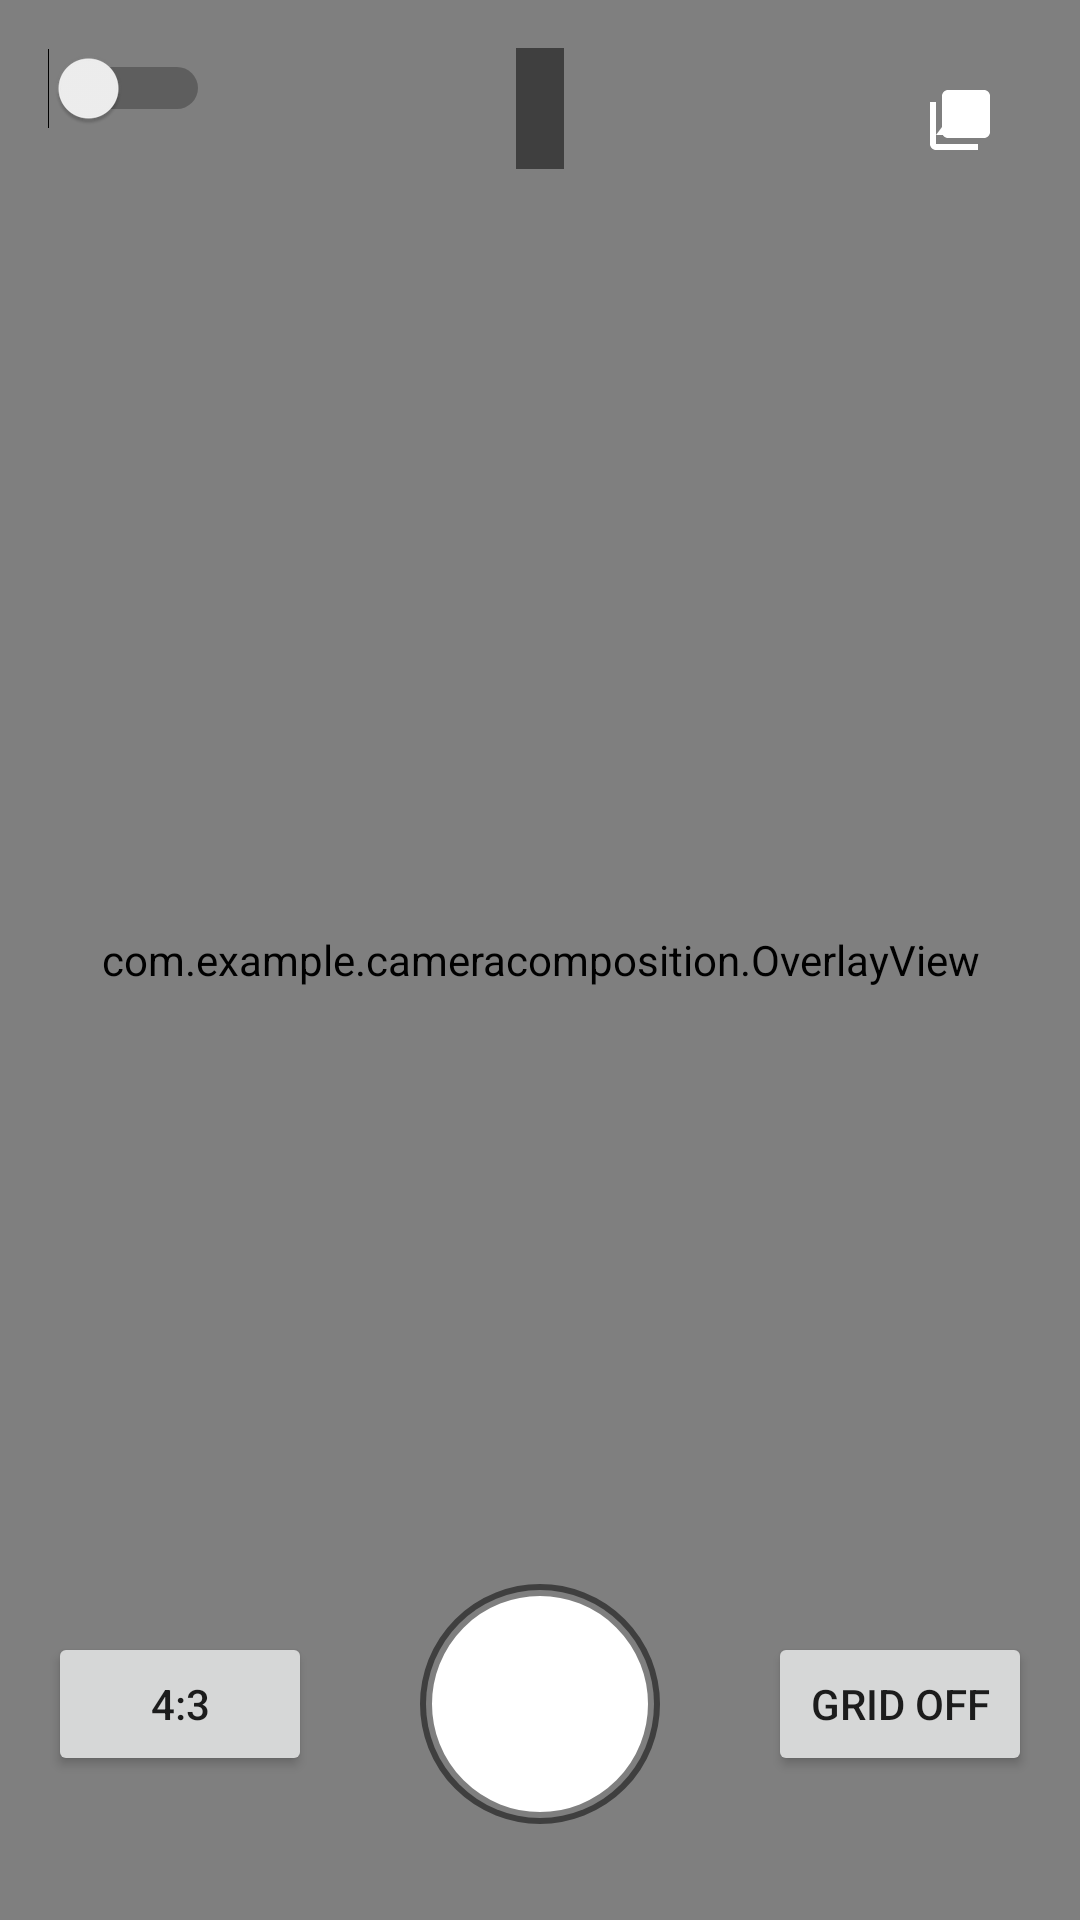

Screen size 1080px x 1920px. Icon name, then its center in pixels as [x,y]:
gallery: [960,120]
shutter: [540,1704]
